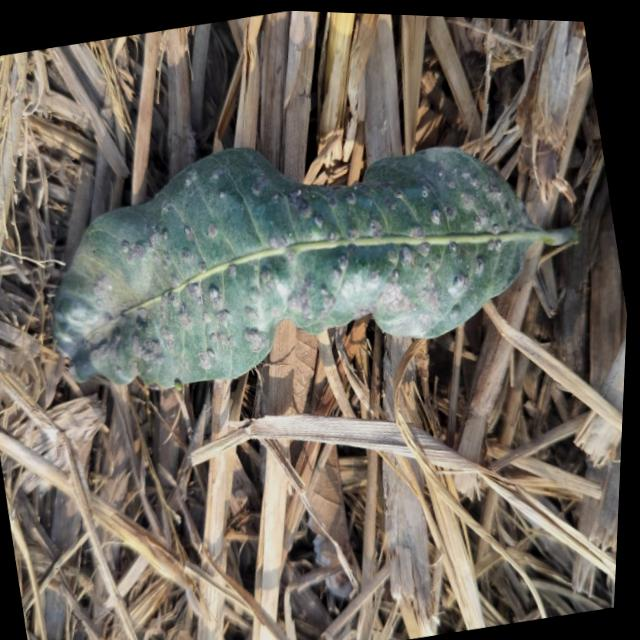gall midge: (376, 209, 481, 327), (172, 258, 299, 353), (102, 308, 182, 370)
